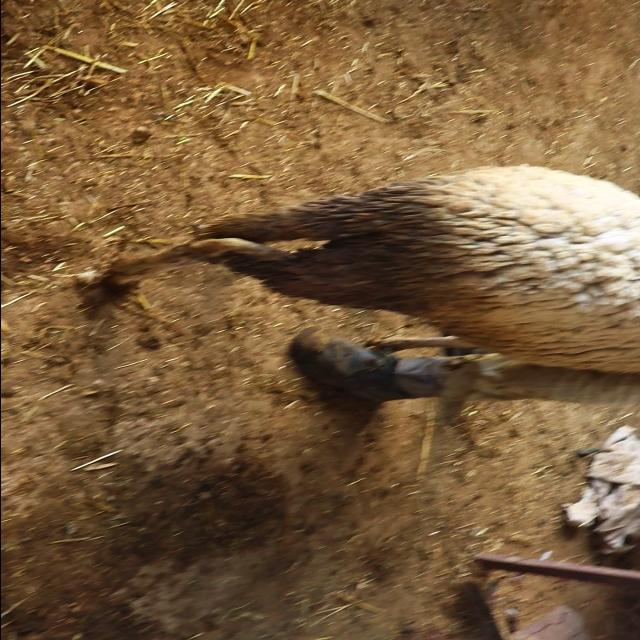Score_3: (107, 164, 640, 373)
